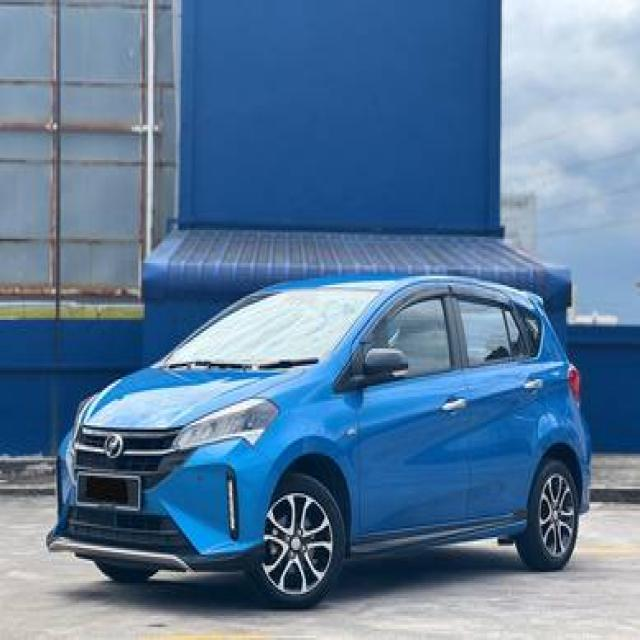PeroduaMyvi: (45, 270, 592, 609)
